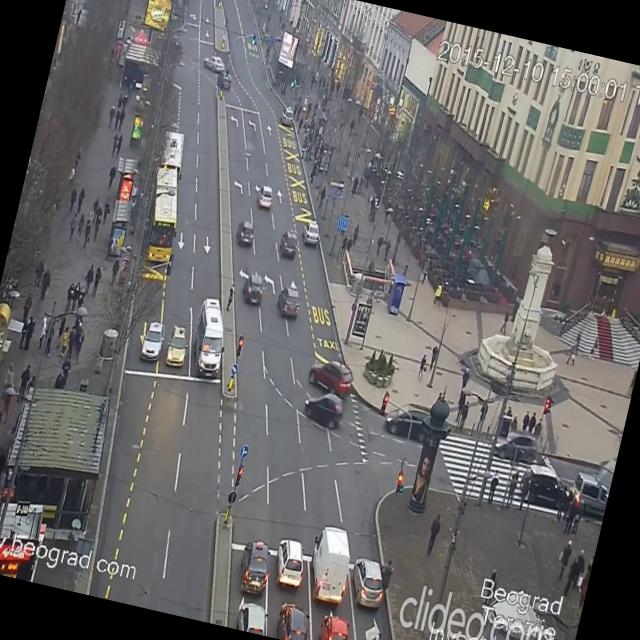bus: (135, 162, 188, 270), (152, 124, 188, 172)
car: (306, 517, 356, 603), (185, 298, 233, 378), (383, 398, 446, 446), (343, 550, 390, 610), (516, 464, 572, 512), (567, 464, 613, 518), (234, 540, 274, 596), (308, 352, 358, 394), (302, 387, 346, 430), (491, 428, 542, 464), (270, 537, 308, 583), (274, 601, 311, 640), (138, 318, 168, 364), (162, 323, 191, 369), (232, 599, 268, 635), (274, 283, 304, 320), (240, 269, 267, 306), (314, 615, 349, 640), (233, 218, 256, 248), (278, 229, 298, 258), (300, 218, 322, 244), (256, 185, 276, 212), (214, 65, 233, 89), (203, 54, 223, 74), (280, 104, 296, 128)
